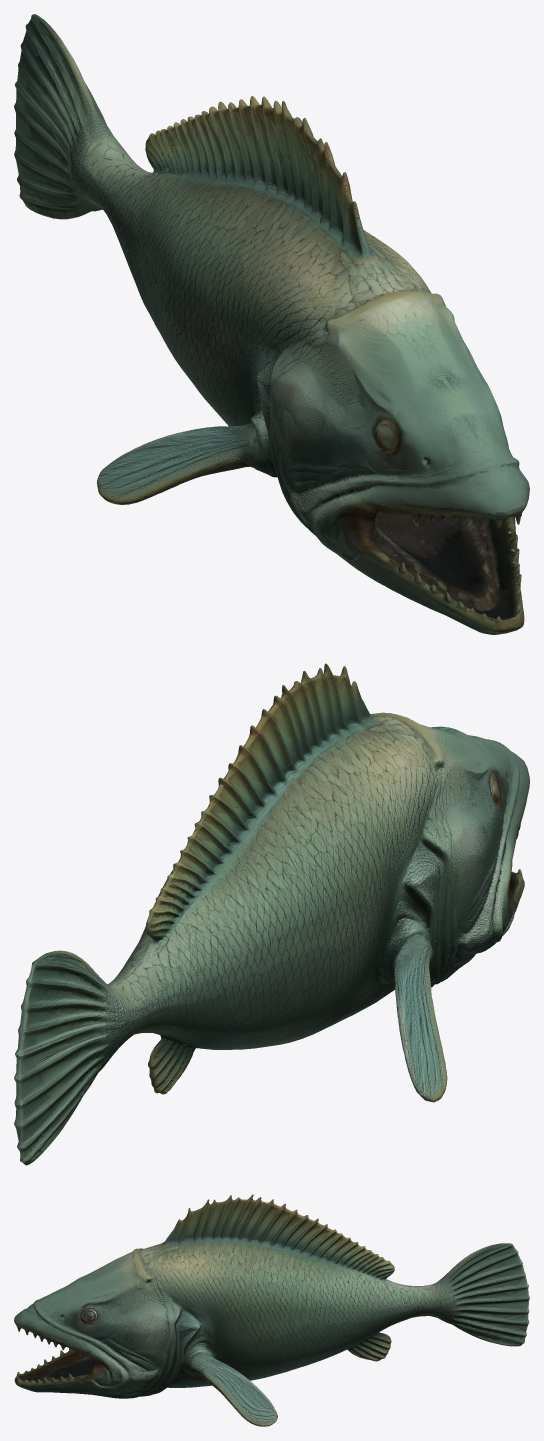
Rendered from fish_barrel_grouper.glb.
The picture shows the model from 3 angles, top to bottom: view 1: azimuth 30°, elevation 25°; view 2: azimuth 150°, elevation 25°; view 3: azimuth 270°, elevation 25°; orthographic projection. The views are drawn at different scales.
Size of the model in its own units: 0.7411 by 0.799 by 1.9.
1 material, 1 textured.
